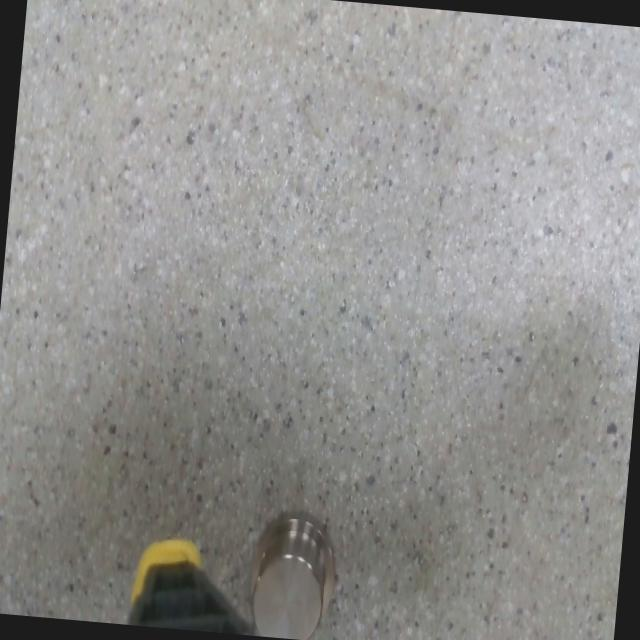sensor: (242, 505, 341, 640)
